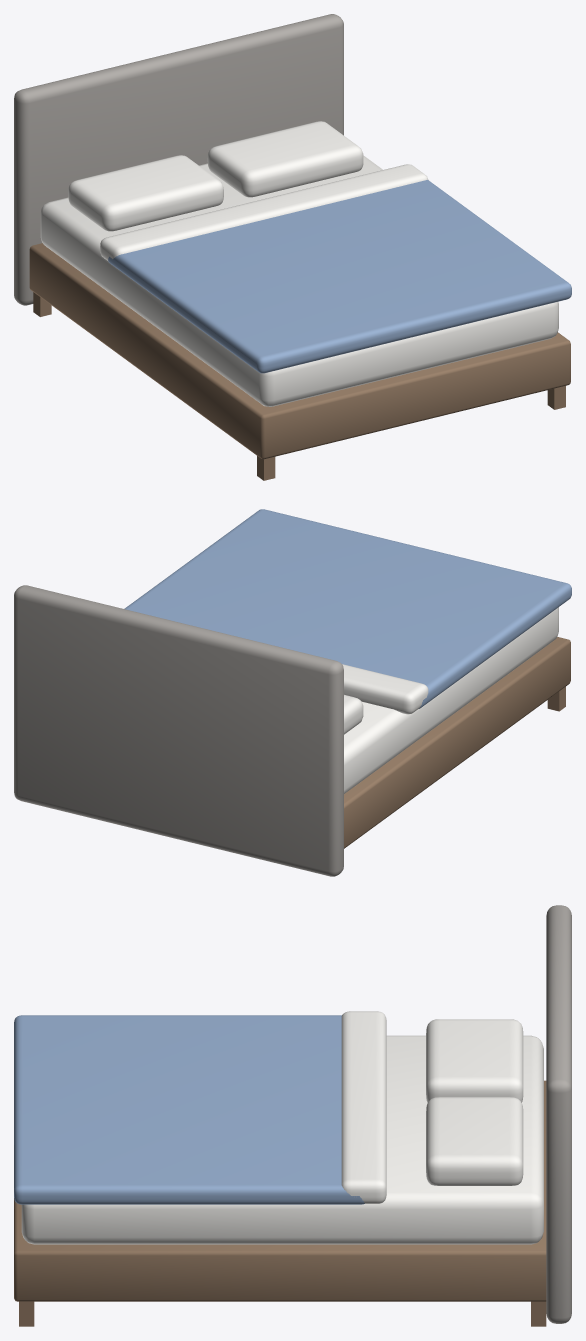
Rendered from bed.glb.
3 renders of one model, top to bottom at view 1: azimuth 30°, elevation 25°; view 2: azimuth 150°, elevation 25°; view 3: azimuth 270°, elevation 25°, orthographic. The views are drawn at different scales.
Visible parts, largest first — view 1: Cube.006, Cube.010, Cube, Cube.005, Cube.009, Cube.008, Cube.007; view 2: Cube.010, Cube.006, Cube, Cube.005, Cube.007, Cube.008; view 3: Cube.006, Cube.005, Cube, Cube.010, Cube.007, Cube.009, Cube.008.
Boxes of the visible parts, x1=… form: Cube.006: x1=108, y1=180, x2=571, y2=373; Cube.010: x1=14, y1=14, x2=343, y2=305; Cube: x1=29, y1=243, x2=570, y2=459; Cube.005: x1=40, y1=155, x2=558, y2=406; Cube.009: x1=207, y1=121, x2=363, y2=197; Cube.008: x1=68, y1=155, x2=223, y2=231; Cube.007: x1=100, y1=164, x2=428, y2=260; Cube.010: x1=14, y1=585, x2=343, y2=876; Cube.006: x1=124, y1=509, x2=571, y2=708; Cube: x1=344, y1=637, x2=570, y2=848; Cube.005: x1=344, y1=607, x2=558, y2=793; Cube.007: x1=342, y1=664, x2=428, y2=714; Cube.008: x1=344, y1=694, x2=363, y2=734; Cube.006: x1=14, y1=1015, x2=364, y2=1204; Cube.005: x1=21, y1=1035, x2=543, y2=1244; Cube: x1=14, y1=1080, x2=546, y2=1301; Cube.010: x1=546, y1=905, x2=571, y2=1323; Cube.007: x1=341, y1=1011, x2=386, y2=1203; Cube.009: x1=426, y1=1097, x2=523, y2=1185; Cube.008: x1=426, y1=1019, x2=523, y2=1102.
Bounding box in the file's own units: 1.68 × 1.08 × 2.18.
